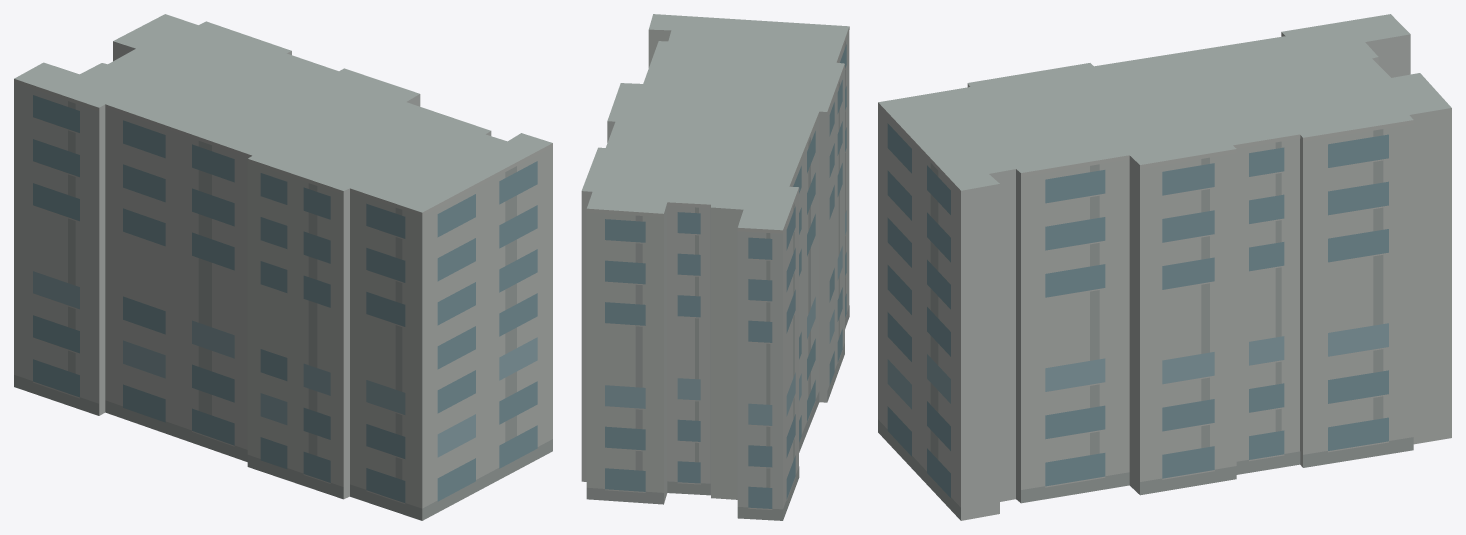
File: survey-upis-32827636.glb
The picture shows the model from 3 angles, left to right: view 1: azimuth 30°, elevation 25°; view 2: azimuth 150°, elevation 25°; view 3: azimuth 270°, elevation 25°; orthographic projection. The views are drawn at different scales.
Parts seen in each view (by area): view 1: survey-upis-32827636.tmp; view 2: survey-upis-32827636.tmp; view 3: survey-upis-32827636.tmp.
Boxes of the visible parts, left/top/right/bottom form: survey-upis-32827636.tmp: left=14, top=14, right=552, bottom=520; survey-upis-32827636.tmp: left=581, top=14, right=849, bottom=520; survey-upis-32827636.tmp: left=878, top=14, right=1451, bottom=520.
Bounding box in the file's own units: 22.63 × 19.7 × 31.04.
